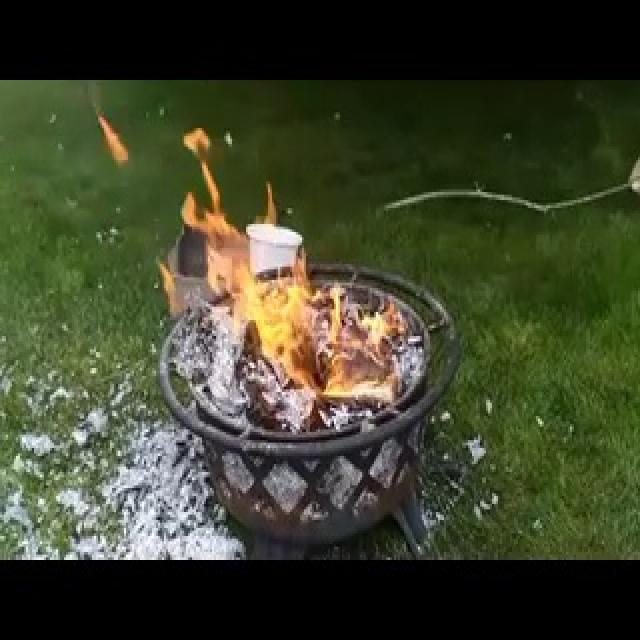Fire: (197, 106, 419, 422)
